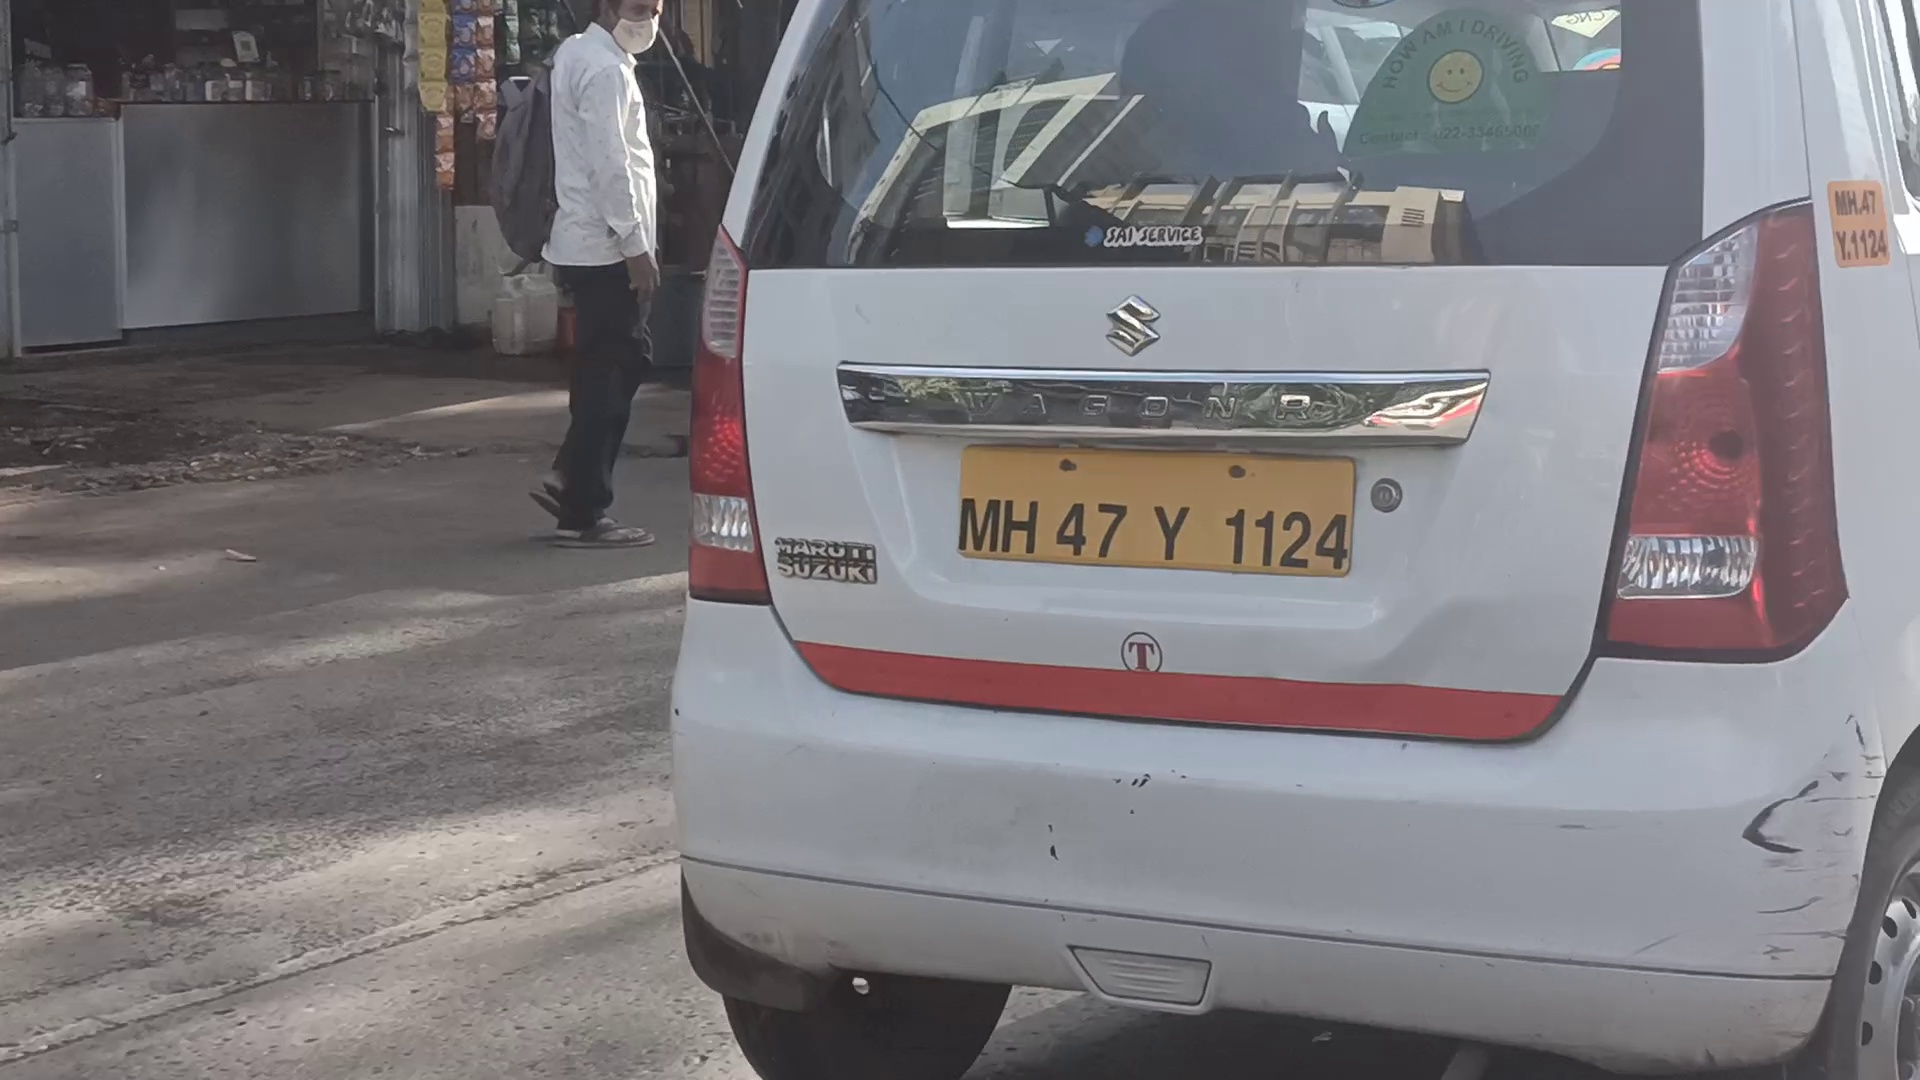MH47Y1124: (957, 445, 1357, 581)
